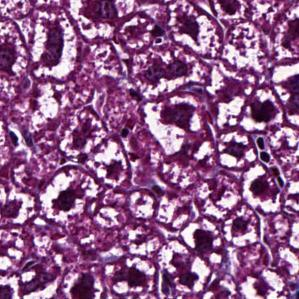inflammation: (140, 95, 208, 158), (26, 10, 83, 79), (35, 167, 100, 222)
